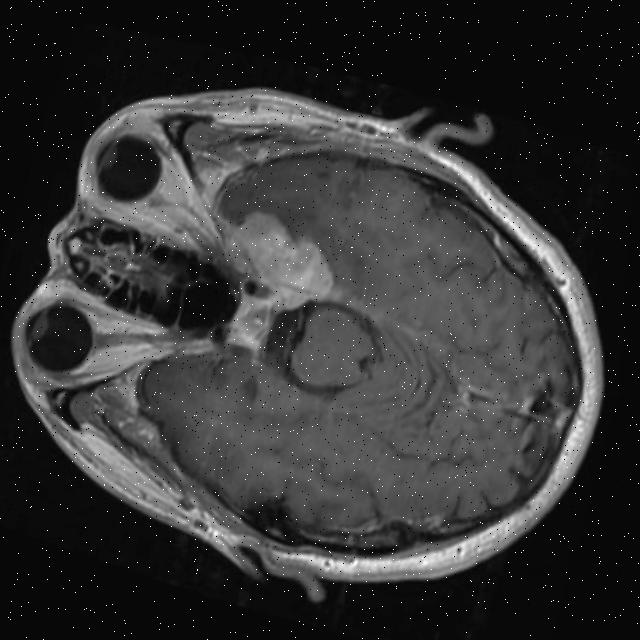Meningioma: (215, 202, 353, 307)
